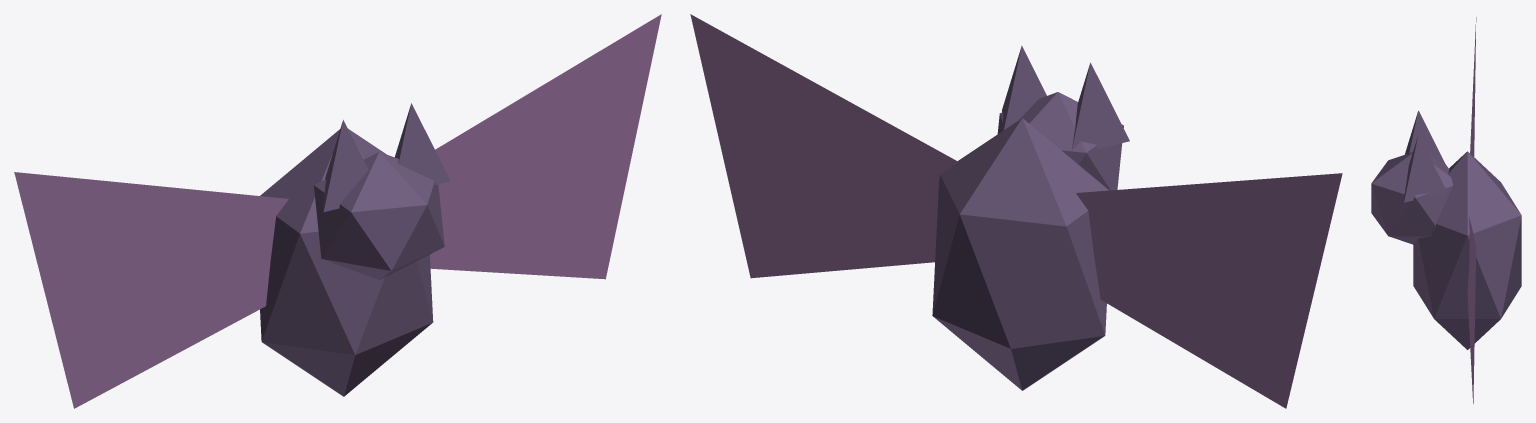
Rendered from mine-bat-v01.glb.
The picture shows the model from 3 angles, left to right: view 1: azimuth 30°, elevation 25°; view 2: azimuth 150°, elevation 25°; view 3: azimuth 270°, elevation 25°; orthographic projection. The views are drawn at different scales.
Parts seen in each view (by area): view 1: left wing, right wing, body, head, ear, ear.001; view 2: right wing, left wing, body, head, ear, ear.001; view 3: body, head, ear.001, right wing, ear, left wing.
Part boxes in pixels (x1,y1,x2,y2): left wing: [14, 172, 288, 408]; right wing: [430, 14, 661, 279]; body: [260, 129, 433, 396]; head: [314, 152, 444, 279]; ear: [323, 120, 368, 211]; ear.001: [394, 103, 450, 184]; right wing: [690, 14, 958, 278]; left wing: [1076, 173, 1342, 408]; body: [932, 118, 1108, 390]; head: [997, 92, 1123, 190]; ear: [1070, 62, 1129, 155]; ear.001: [1002, 45, 1046, 131]; body: [1413, 151, 1521, 349]; head: [1371, 152, 1453, 244]; ear.001: [1404, 135, 1446, 202]; right wing: [1467, 217, 1476, 403]; ear: [1405, 110, 1445, 164]; left wing: [1470, 17, 1476, 156].
Bounding box in the file's own units: 1.9 × 0.87 × 0.5203.
